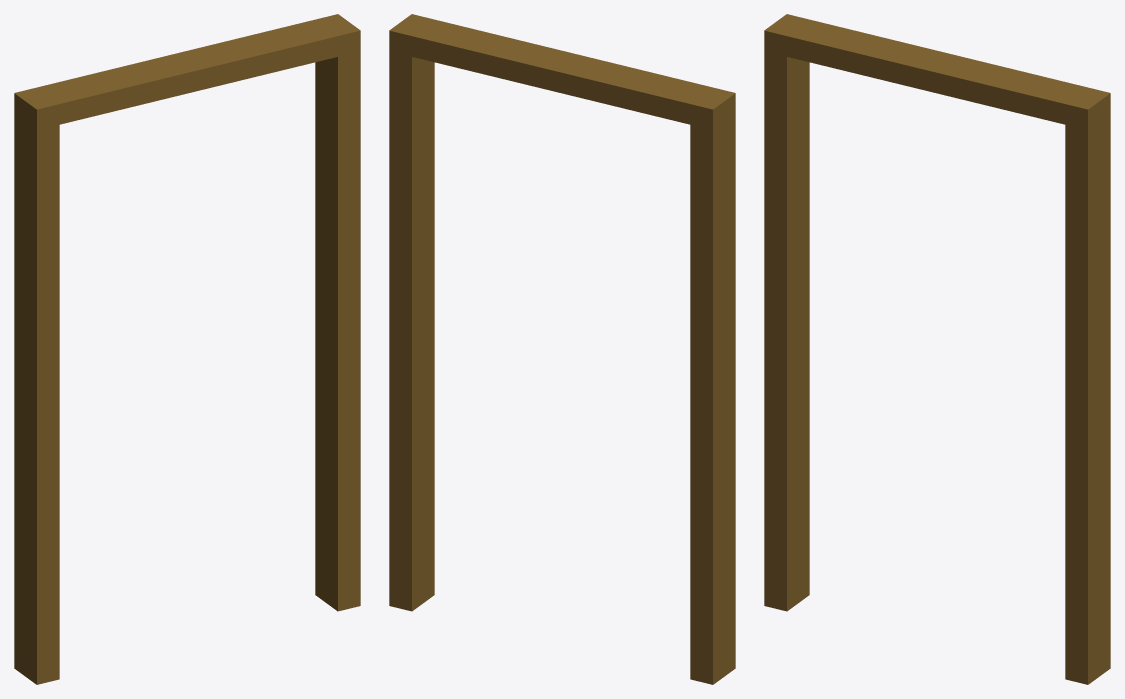
File: Doorframe.fbx
3 renders of one model, left to right at view 1: azimuth 30°, elevation 25°; view 2: azimuth 150°, elevation 25°; view 3: azimuth 330°, elevation 25°, orthographic.
Visible parts, largest first — view 1: modular_doorframe; view 2: modular_doorframe; view 3: modular_doorframe.
Boxes of the visible parts, x1,y1,x2,y2 form: modular_doorframe: [14, 14, 360, 684]; modular_doorframe: [389, 14, 735, 684]; modular_doorframe: [764, 14, 1110, 684].
Bounding box in the file's own units: 134 × 227 × 16.19.
